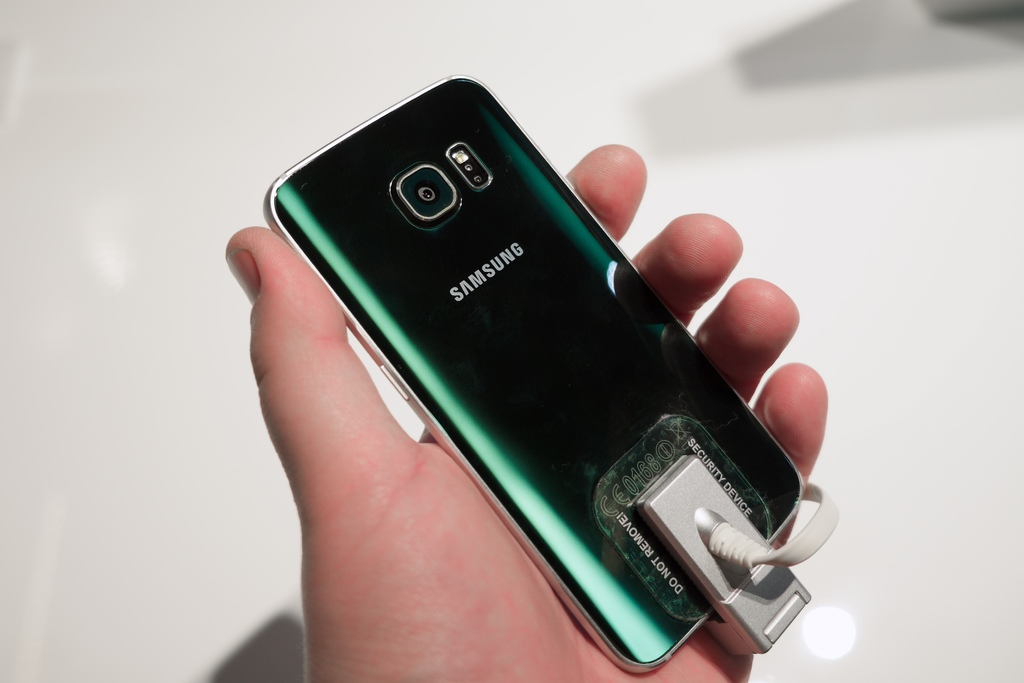Mobile-phone: (261, 75, 807, 673)
